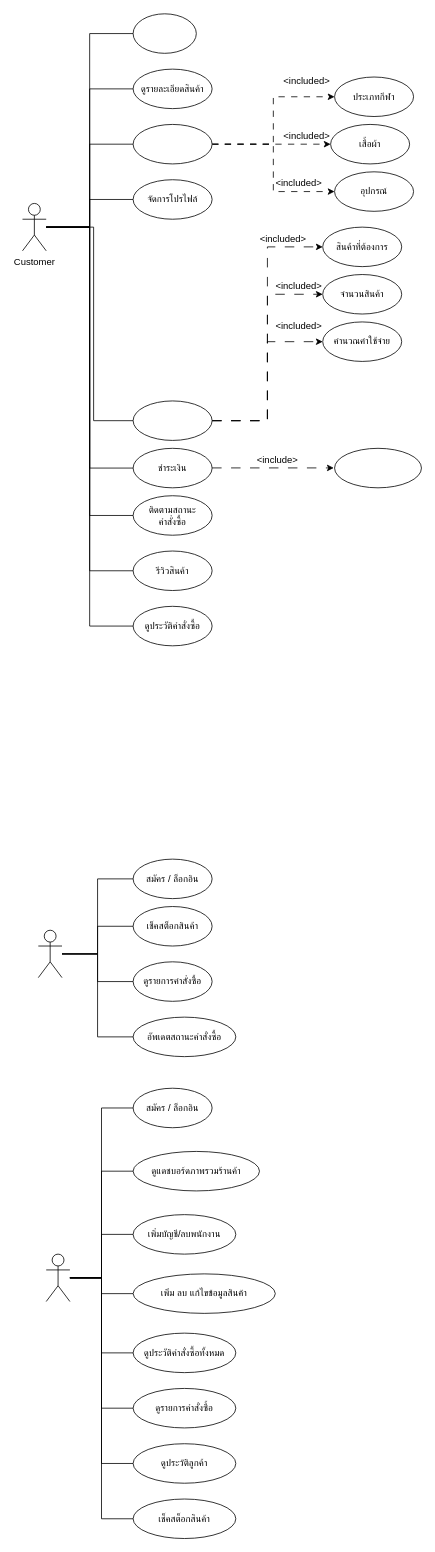
This 435x1552 diagram has some shape labels left out. The centre of each missing label's shape, as x and y in pixels:
"ค้นหาสินค้า" belongs at pixel 172 144.
"ดูหน้าแรก" belongs at pixel 164 33.
"ผู้จัดการ" belongs at pixel 57 1277.
"พนักงาน" belongs at pixel 50 953.
"เลือกช่องทางชำระเงิน" belongs at pixel 377 468.
"ใส่ตระกร้า" belongs at pixel 172 420.
